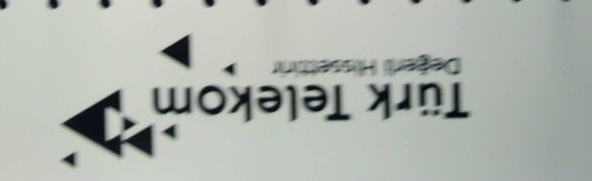AQ_TURKTelekom: (54, 28, 471, 169)
